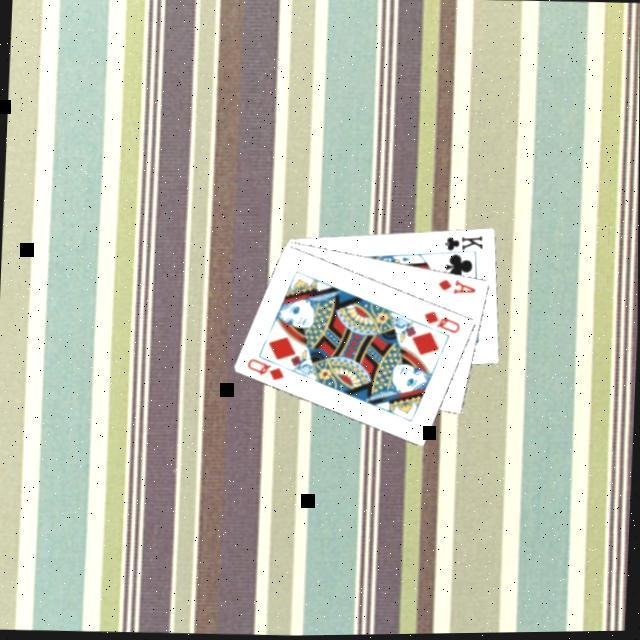AD: (432, 274, 478, 296)
KC: (436, 229, 484, 258)
QD: (418, 306, 462, 336), (242, 352, 286, 382)
